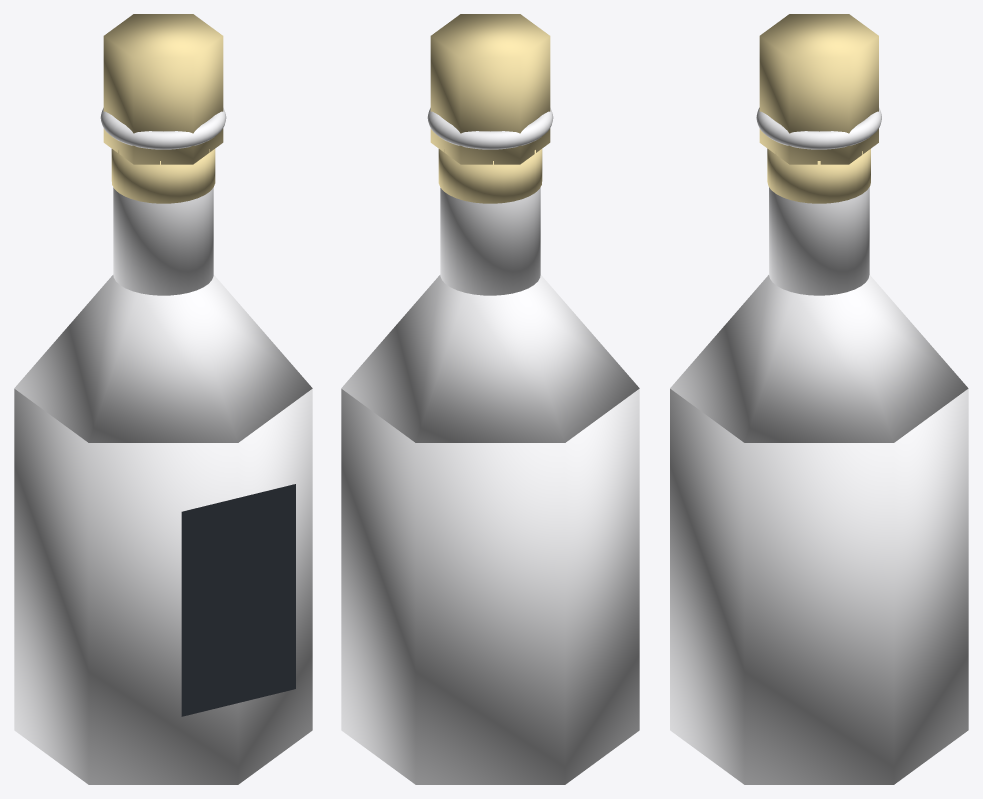
File: ferabee_whisky_bottle.glb
The picture shows the model from 3 angles, left to right: view 1: azimuth 30°, elevation 25°; view 2: azimuth 150°, elevation 25°; view 3: azimuth 270°, elevation 25°; orthographic projection.
Parts seen in each view (by area): view 1: FeraBee_Whisky_Bottle_Glass, FeraBee_Front_Label, FeraBee_Gold_Cap, FeraBee_Neck_Gold_Band; view 2: FeraBee_Whisky_Bottle_Glass, FeraBee_Gold_Cap, FeraBee_Neck_Gold_Band; view 3: FeraBee_Whisky_Bottle_Glass, FeraBee_Gold_Cap, FeraBee_Neck_Gold_Band.
Part boxes in pixels (<box>): FeraBee_Whisky_Bottle_Glass: <box>14,108,312,784</box>; FeraBee_Front_Label: <box>181,484,295,716</box>; FeraBee_Gold_Cap: <box>103,14,223,164</box>; FeraBee_Neck_Gold_Band: <box>111,149,215,203</box>; FeraBee_Whisky_Bottle_Glass: <box>341,108,639,784</box>; FeraBee_Gold_Cap: <box>430,14,550,164</box>; FeraBee_Neck_Gold_Band: <box>438,149,542,203</box>; FeraBee_Whisky_Bottle_Glass: <box>670,107,968,784</box>; FeraBee_Gold_Cap: <box>759,14,878,164</box>; FeraBee_Neck_Gold_Band: <box>767,148,870,203</box>.
Size of what is drawn, in the model's own units: 1.65 by 4.88 by 1.91.
